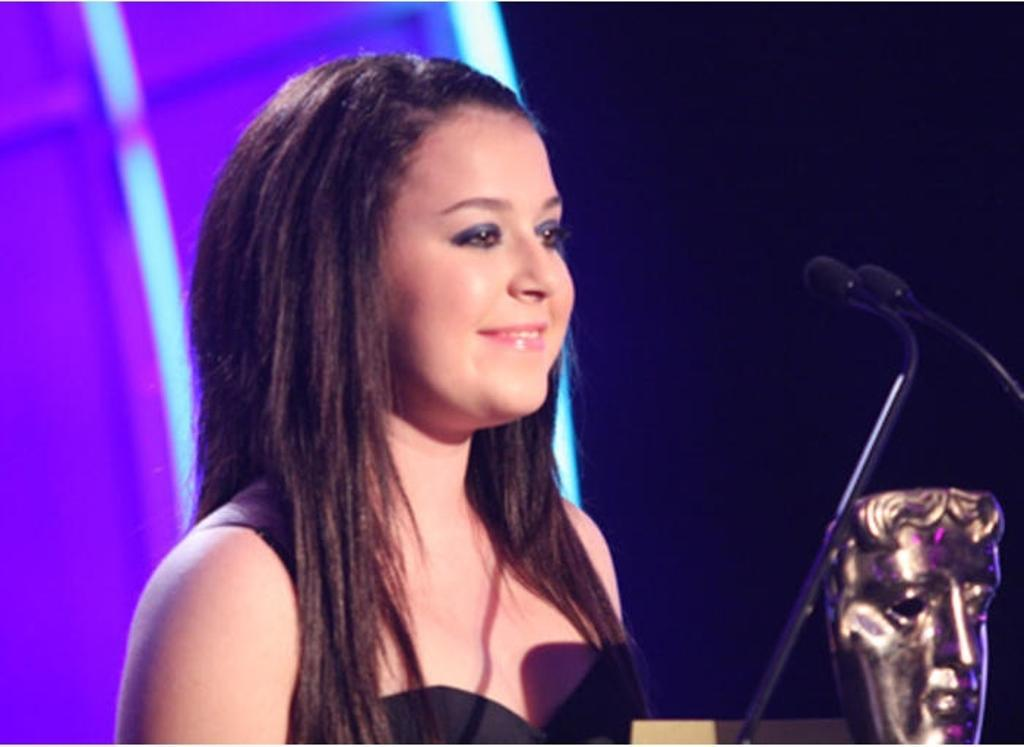face: (371, 101, 575, 419)
